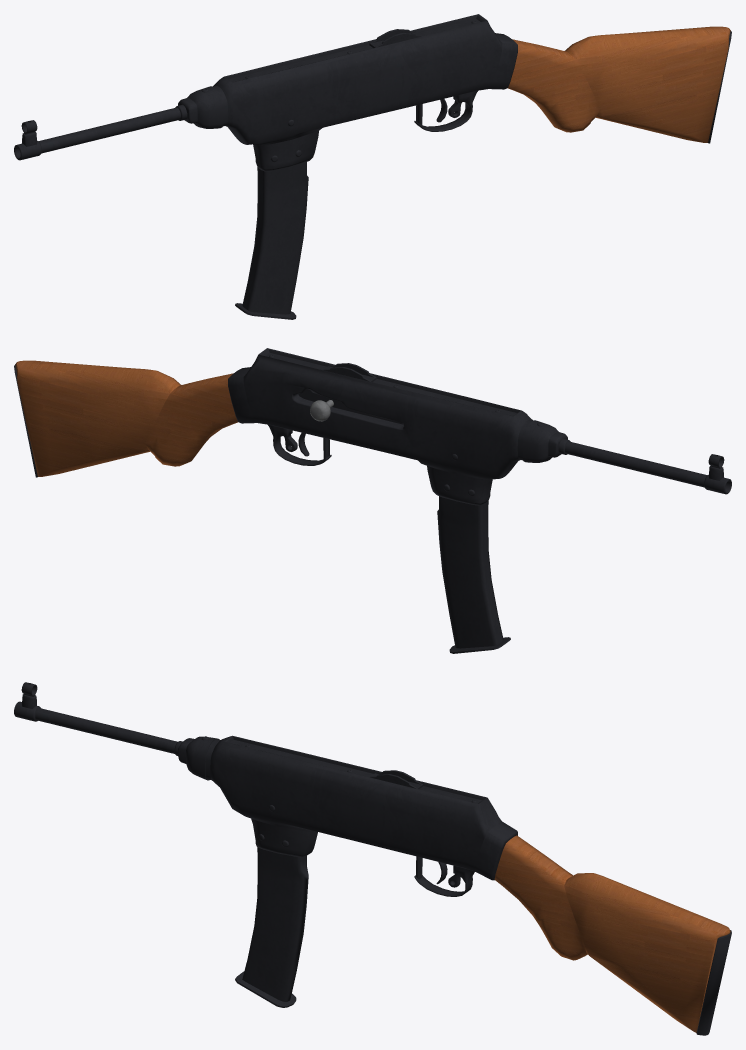
Rendered from bordyukov.glb.
The picture shows the model from 3 angles, top to bottom: view 1: azimuth 30°, elevation 25°; view 2: azimuth 150°, elevation 25°; view 3: azimuth 330°, elevation 25°; orthographic projection.
Parts seen in each view (by area): view 1: bordyukov; view 2: bordyukov; view 3: bordyukov.
Part boxes in pixels (bbox=[...]): bordyukov: bbox=[14, 14, 731, 319]; bordyukov: bbox=[14, 348, 731, 653]; bordyukov: bbox=[14, 682, 731, 1035].
Bounding box in the file's own units: 0.834 × 0.2869 × 0.0583.
4 materials, 4 textured.
